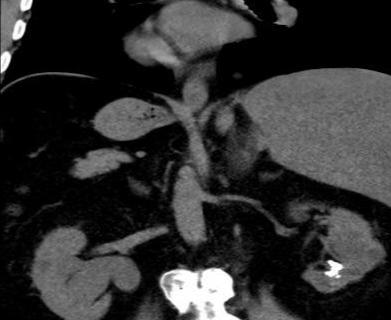Tas_Var: (321, 258, 342, 278), (334, 274, 342, 279)
